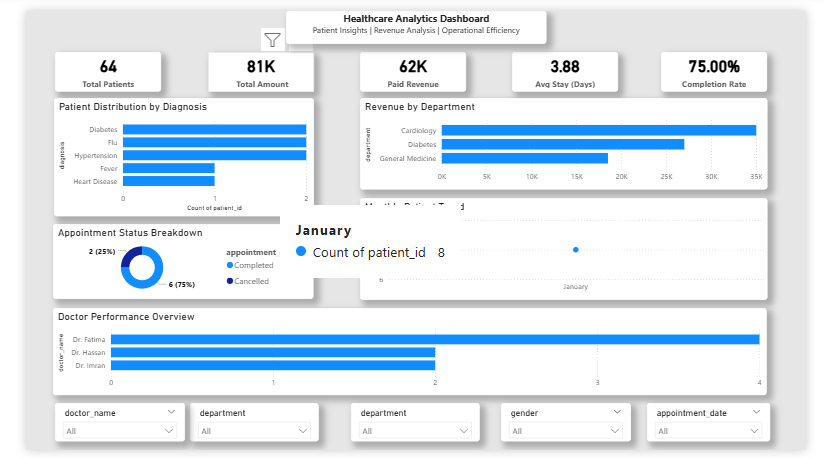

The dashboard page shown, as its layout file describes it:
{"tool":"powerbi","page":{"name":"Healthcare Analytics Dashboard","canvas":[1280,720],"ordinal":0},"visuals":[{"type":"card","fields":{"Values":["Sum(healthcareanalyticsdb.Total Patients)"]},"box":[47.8,67.8,174.2,64.8],"z":0},{"type":"card","fields":{"Values":["healthcareanalyticsdb.Completion Rate"]},"box":[1040.7,67.8,174.2,64.8],"z":1000},{"type":"card","fields":{"Values":["Sum(healthcareanalyticsdb.total_amount)"]},"box":[297.6,67.8,174.2,64.8],"z":2000},{"type":"card","fields":{"Values":["healthcareanalyticsdb.Paid Revenue"]},"box":[547.3,67.8,174.2,64.8],"z":3000},{"type":"card","fields":{"Values":["healthcareanalyticsdb.Avg Stay (Days)"]},"box":[797.1,67.8,174.2,64.8],"z":4000},{"type":"barChart","title":"Patient Distribution by Diagnosis","fields":{"Y":["CountNonNull(healthcareanalyticsdb.patient_id)"],"Category":["healthcareanalyticsdb.diagnosis"]},"box":[46.3,143.4,425.5,194.3],"z":5000},{"type":"barChart","title":"Revenue by Department","fields":{"Category":["healthcareanalyticsdb.department"],"Y":["Sum(healthcareanalyticsdb.total_amount)"]},"box":[547.3,143.4,667.6,149.6],"z":6000},{"type":"donutChart","title":"Appointment Status Breakdown","fields":{"Category":["healthcareanalyticsdb.appointment_status"],"Y":["CountNonNull(healthcareanalyticsdb.appointment_status)"]},"box":[44.7,350,427.1,123.3],"z":7000},{"type":"lineChart","title":"Monthly Patient Trend","fields":{"Category":["healthcareanalyticsdb.admission_date.Variation.Date Hierarchy.Month"],"Y":["CountNonNull(healthcareanalyticsdb.patient_id)"]},"box":[547.3,306.8,667.6,166.5],"z":8000},{"type":"clusteredBarChart","title":"Doctor Performance Overview","fields":{"Category":["healthcareanalyticsdb.doctor_name"],"Y":["CountNonNull(healthcareanalyticsdb.patient_id)"]},"box":[44.7,487.2,1170.2,143.4],"z":9000},{"type":"slicer","fields":{"Values":["healthcareanalyticsdb.department"]},"box":[268.3,642.9,211.2,63.2],"z":10000},{"type":"slicer","fields":{"Values":["healthcareanalyticsdb.department"]},"box":[533.4,642.9,211.2,63.2],"z":11000},{"type":"slicer","fields":{"Values":["healthcareanalyticsdb.gender"]},"box":[778.6,642.9,212.8,63.2],"z":12000},{"type":"slicer","fields":{"Values":["healthcareanalyticsdb.doctor_name"]},"box":[47.8,642.9,212.8,63.2],"z":13000},{"type":"slicer","fields":{"Values":["healthcareanalyticsdb.appointment_date"]},"box":[1017.6,642.9,202,63.2],"z":14000},{"type":"textbox","box":[425.5,0,427.1,54],"z":15000}]}

Visuals, with their boxes in screenshot pixels (x1, y1, x2, y2), scaled from the page's 1280x720 canvas onto the 825x458 screenshot:
card - Sum(healthcareanalyticsdb.Total Patients): 31:43:143:84
card - healthcareanalyticsdb.Completion Rate: 671:43:783:84
card - Sum(healthcareanalyticsdb.total_amount): 192:43:304:84
card - healthcareanalyticsdb.Paid Revenue: 353:43:465:84
card - healthcareanalyticsdb.Avg Stay (Days): 514:43:626:84
"Patient Distribution by Diagnosis" barChart: 30:91:304:215
"Revenue by Department" barChart: 353:91:783:186
"Appointment Status Breakdown" donutChart: 29:223:304:301
"Monthly Patient Trend" lineChart: 353:195:783:301
"Doctor Performance Overview" clusteredBarChart: 29:310:783:401
slicer - healthcareanalyticsdb.department: 173:409:309:449
slicer - healthcareanalyticsdb.department: 344:409:480:449
slicer - healthcareanalyticsdb.gender: 502:409:639:449
slicer - healthcareanalyticsdb.doctor_name: 31:409:168:449
slicer - healthcareanalyticsdb.appointment_date: 656:409:786:449
textbox: 274:0:550:34
